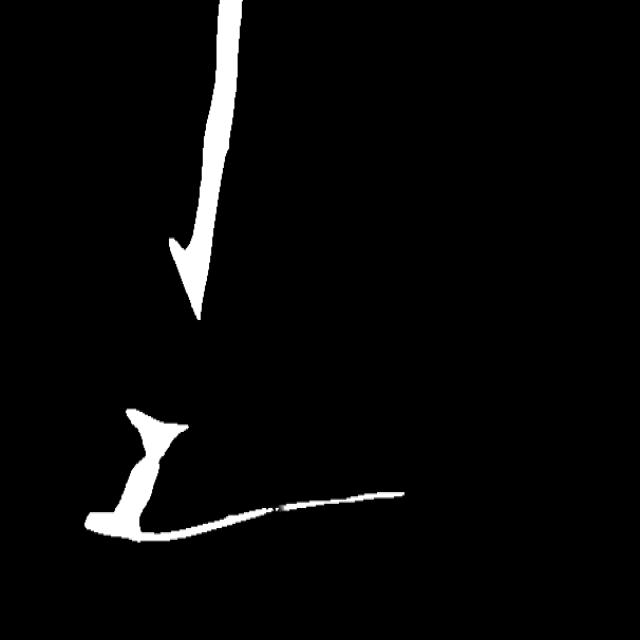inf: (261, 500, 292, 522)
